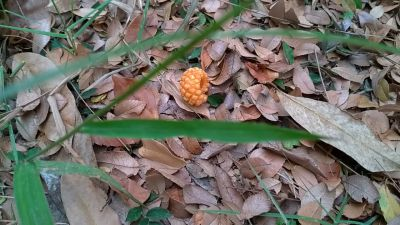eggs: (176, 63, 210, 108)
